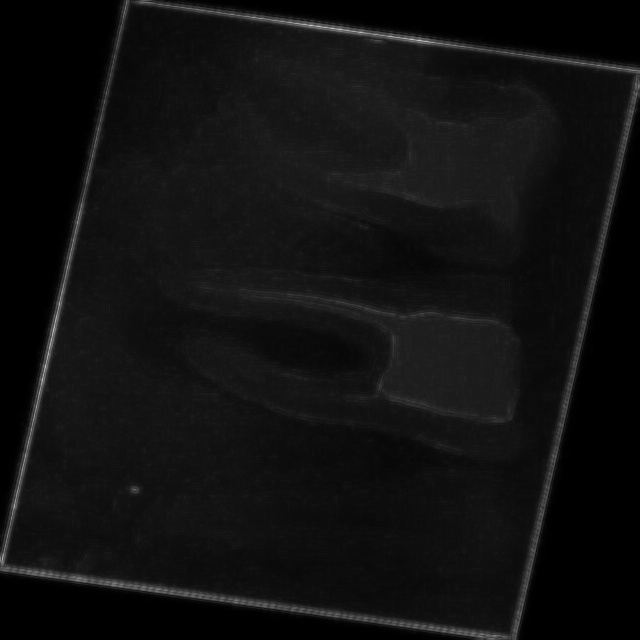Class 0- No endodontic treatment: (164, 16, 581, 284)
Class 1- complete endodontic treatment: (64, 210, 526, 493)
